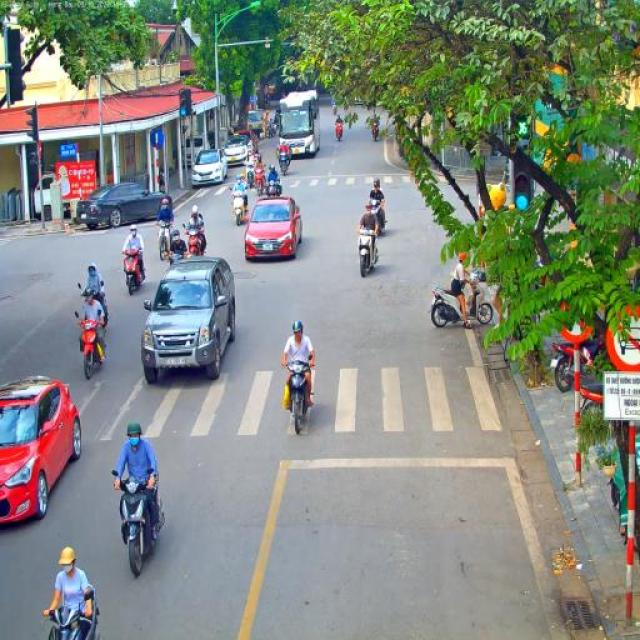bus: (274, 90, 320, 160)
car: (141, 255, 237, 386), (0, 374, 82, 524), (76, 182, 173, 230), (244, 196, 302, 262), (191, 149, 228, 186), (220, 132, 254, 168)
motorcycle: (112, 467, 164, 577), (549, 313, 602, 392), (427, 270, 495, 328), (42, 584, 102, 640), (282, 354, 316, 434), (74, 309, 108, 380), (78, 282, 111, 329), (354, 224, 380, 277), (122, 250, 146, 296), (578, 381, 604, 415), (183, 222, 207, 256), (155, 220, 175, 260), (230, 190, 250, 226), (372, 202, 388, 236), (276, 151, 292, 177), (262, 178, 282, 198), (244, 161, 256, 188), (254, 166, 264, 196), (166, 253, 185, 265), (334, 121, 344, 141), (372, 123, 379, 142), (267, 123, 274, 136), (332, 104, 338, 115)
truck: (232, 130, 258, 156), (241, 110, 263, 139)
